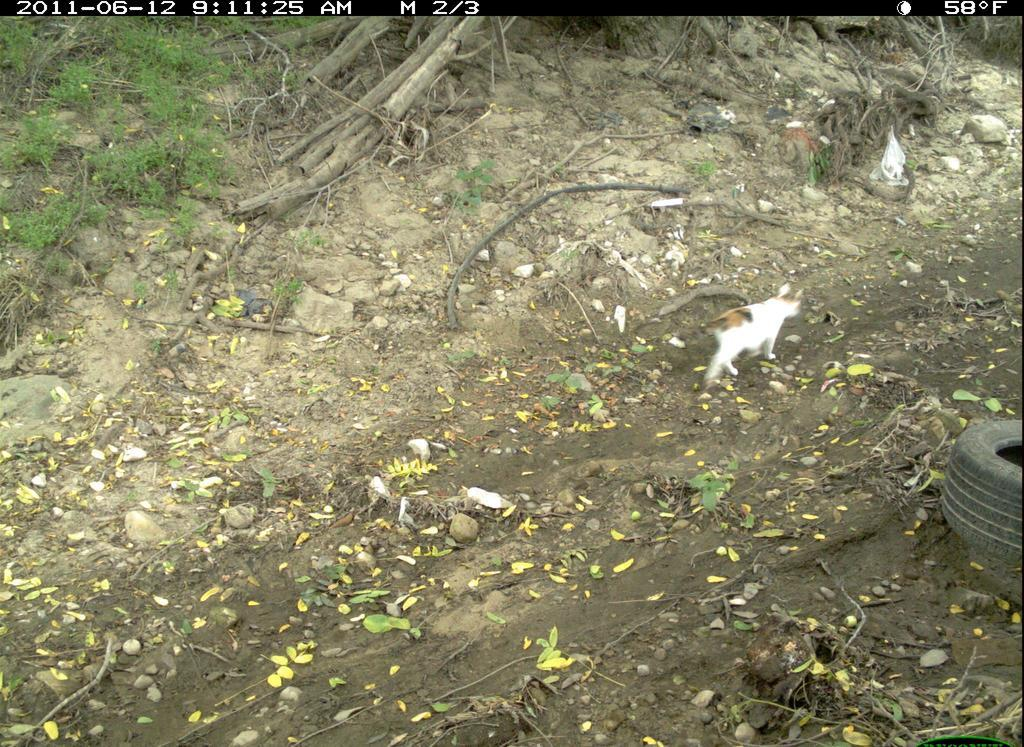cat: (680, 277, 822, 399)
